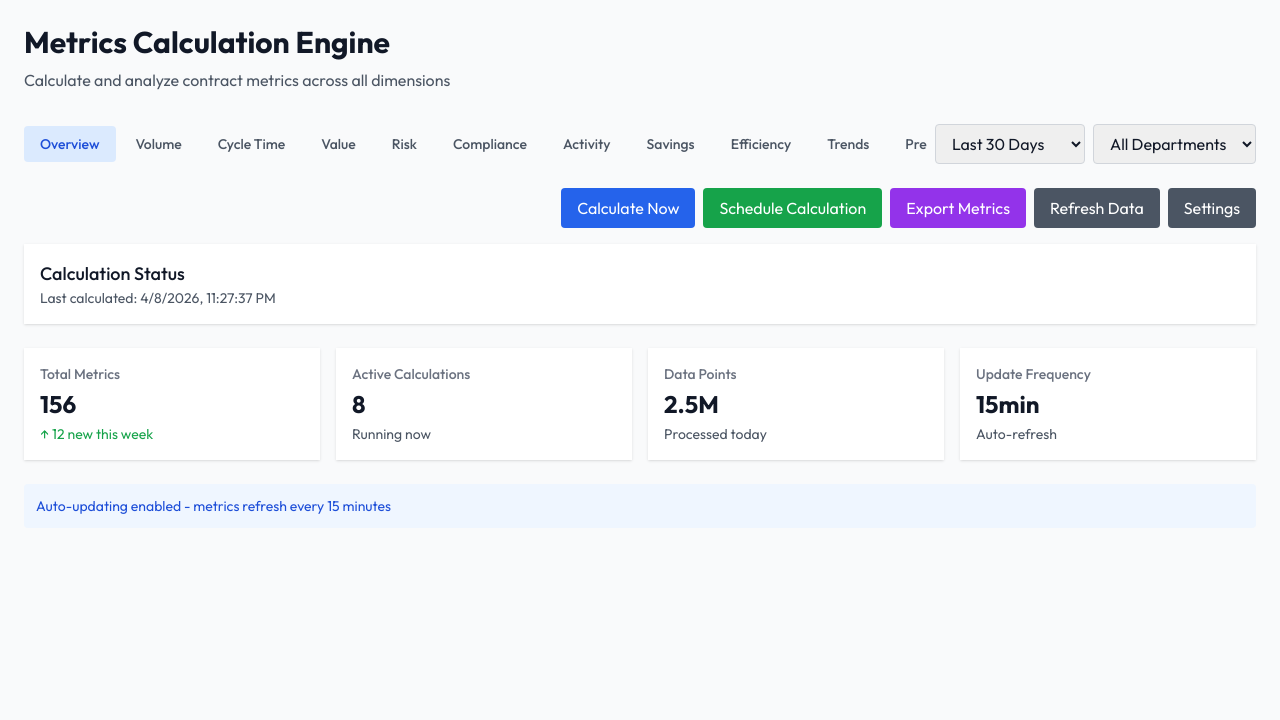
Test case: MetricsCalculationEngine › Contract Volume Metrics › should display volume metrics
This screenshot has width=1280, height=720.
Click the tab "Volume" at (159, 144), box x1=120 y1=126 x2=198 y2=162
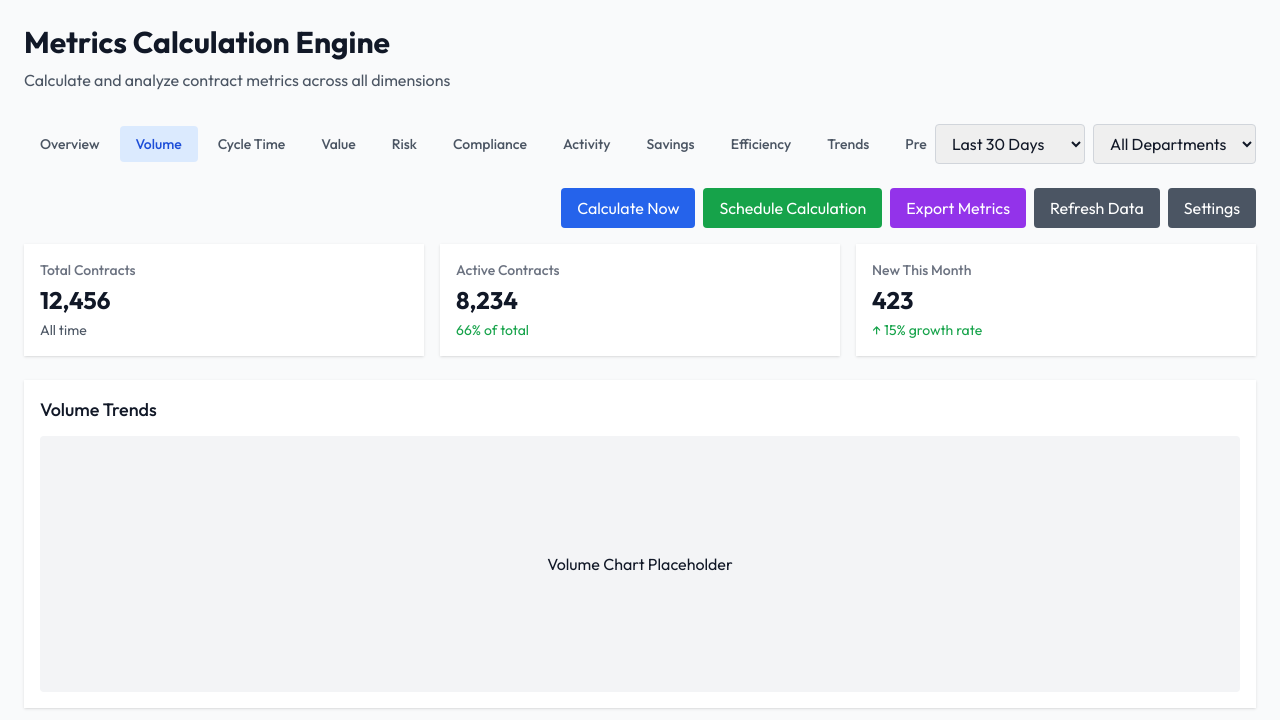
Check: the heading "Total Contracts" is shown, box x1=40 y1=261 x2=136 y2=279
Check: the heading "Active Contracts" is shown, box x1=456 y1=261 x2=560 y2=279
Check: the heading "New This Month" is shown, box x1=872 y1=261 x2=971 y2=279
